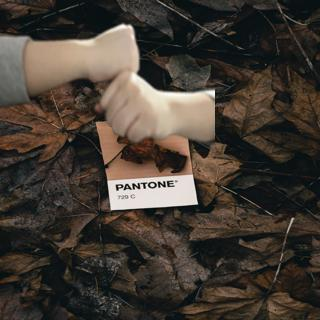CAREFUL: (10, 20, 216, 144)
